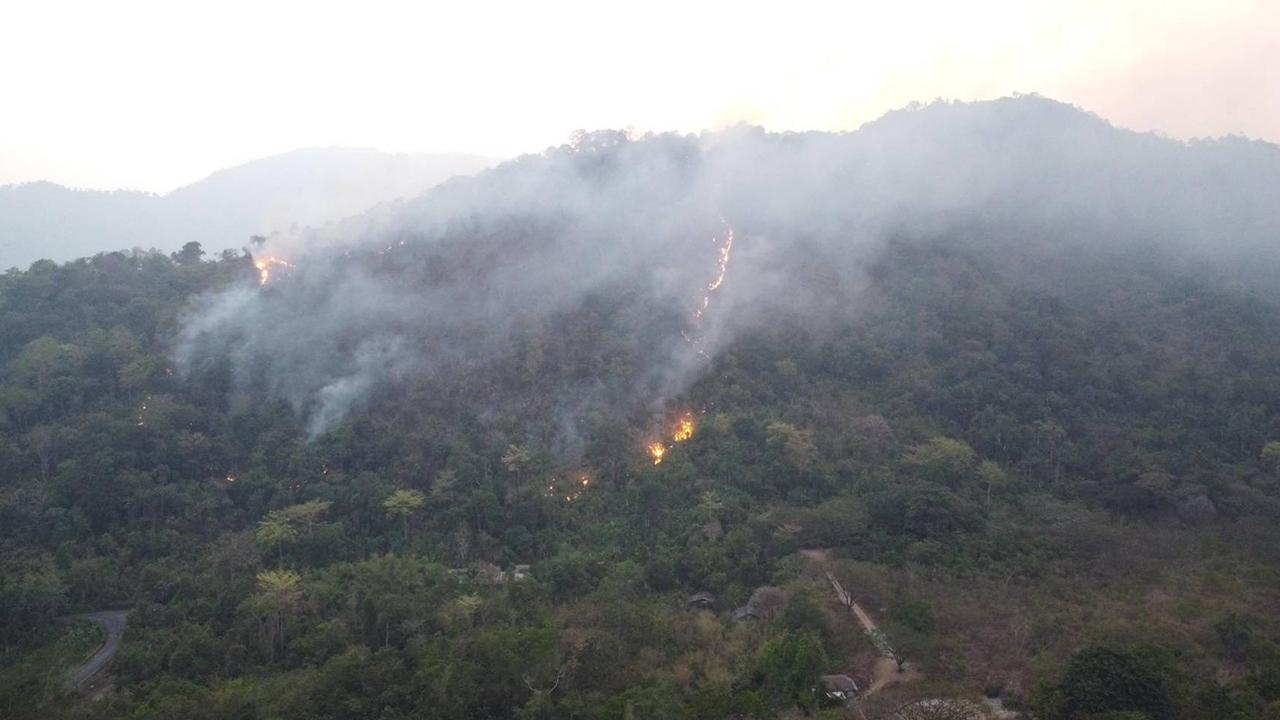fire: (521, 378, 741, 521), (183, 209, 368, 304), (681, 189, 769, 340), (628, 399, 712, 471), (231, 234, 298, 290)
